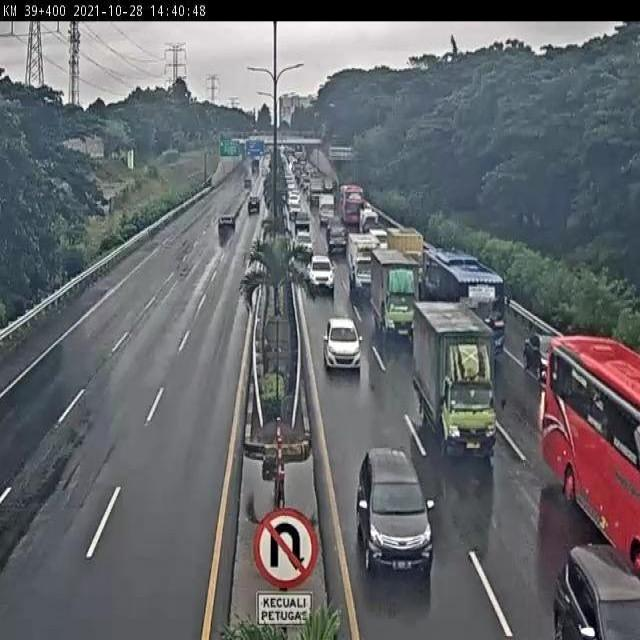bus-l-: (540, 335, 640, 557), (422, 247, 505, 357)
car: (355, 448, 433, 575), (324, 319, 363, 372), (523, 331, 559, 381), (305, 253, 335, 292)
truck-m-: (412, 303, 498, 456), (369, 245, 419, 339), (344, 229, 381, 296)
